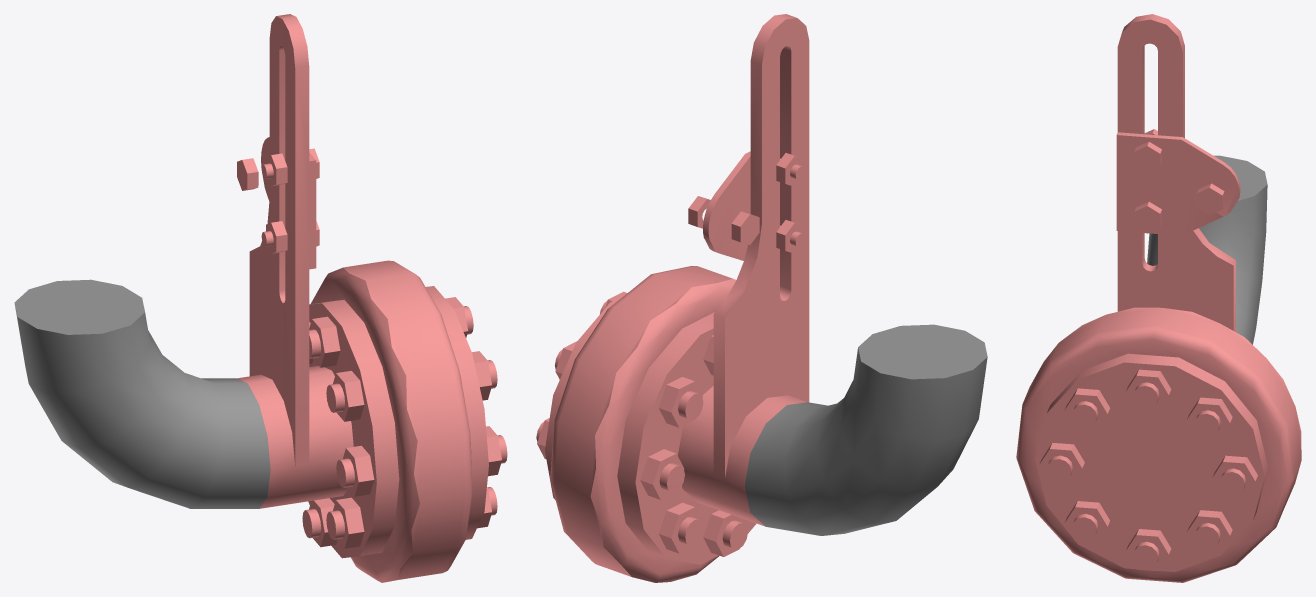
Rendered from SM_SUG_All_Right1.gltf.
The picture shows the model from 3 angles, left to right: view 1: azimuth 30°, elevation 25°; view 2: azimuth 150°, elevation 25°; view 3: azimuth 270°, elevation 25°; orthographic projection. The views are drawn at different scales.
Parts seen in each view (by area): view 1: SM_SUG_All_Right1; view 2: SM_SUG_All_Right1; view 3: SM_SUG_All_Right1.
Part boxes in pixels (x1,y1,x2,y2): SM_SUG_All_Right1: (14, 14, 507, 582); SM_SUG_All_Right1: (536, 14, 987, 582); SM_SUG_All_Right1: (1016, 14, 1301, 582).
Bounding box in the file's own units: 0.2527 × 0.3259 × 0.1649.
